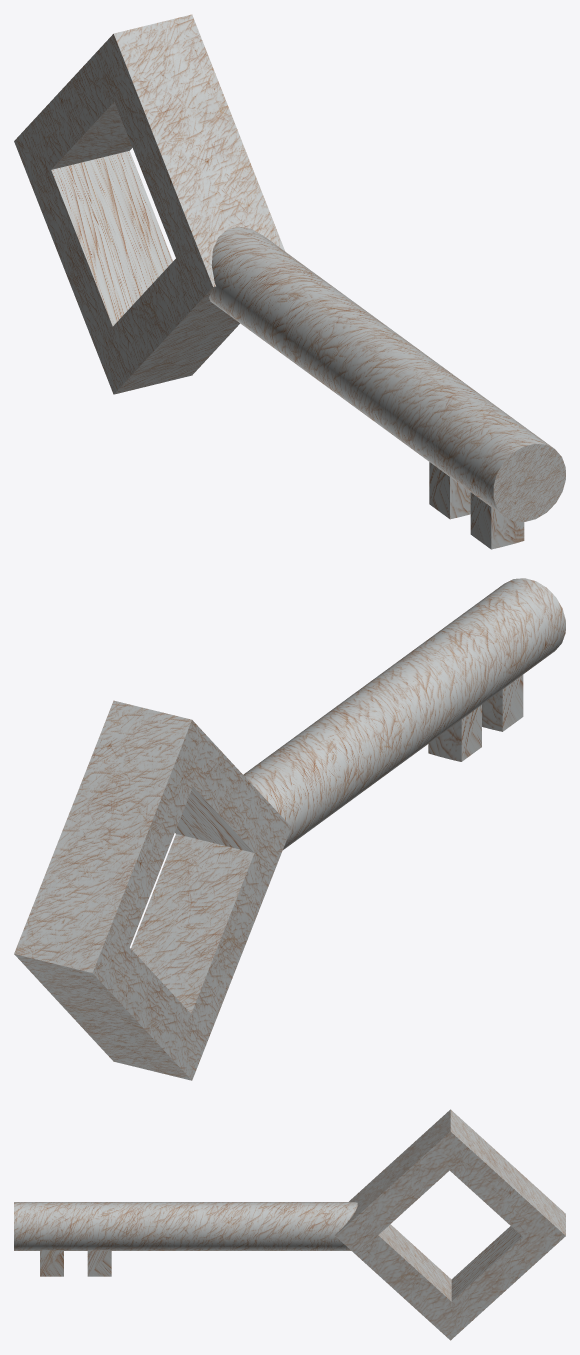
The model's file is chave.fbx.
The picture shows the model from 3 angles, top to bottom: view 1: azimuth 30°, elevation 25°; view 2: azimuth 150°, elevation 25°; view 3: azimuth 270°, elevation 25°; orthographic projection. The views are drawn at different scales.
Parts seen in each view (by area): view 1: pCube1, pCylinder1; view 2: pCube1, pCylinder1; view 3: pCube1, pCylinder1.
Part boxes in pixels (box(x1,y1,x2,y2)): pCube1: box(14, 14, 285, 394); pCylinder1: box(209, 226, 565, 549); pCube1: box(14, 700, 291, 1080); pCylinder1: box(243, 578, 565, 849); pCube1: box(335, 1109, 565, 1340); pCylinder1: box(14, 1202, 357, 1276).
Bounding box in the file's own units: 0.782 × 3.43 × 8.22.
